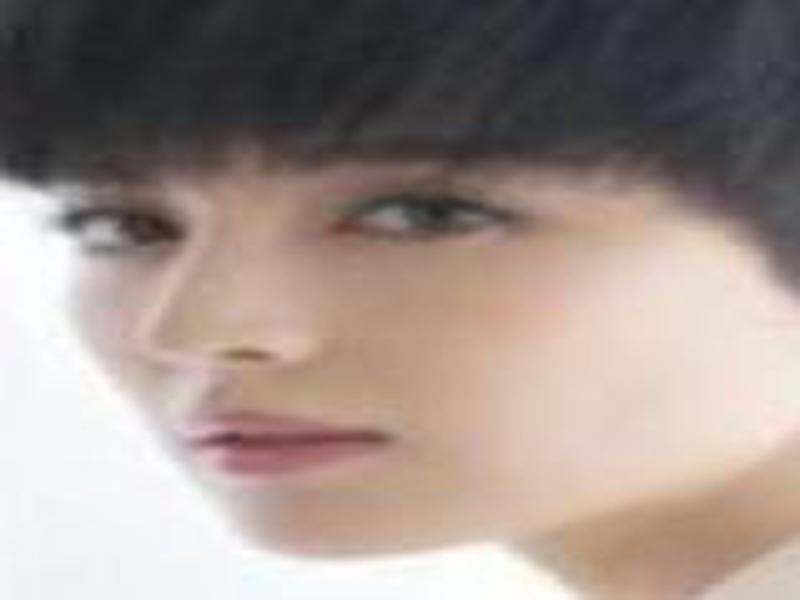without_mask: (44, 119, 757, 570)
